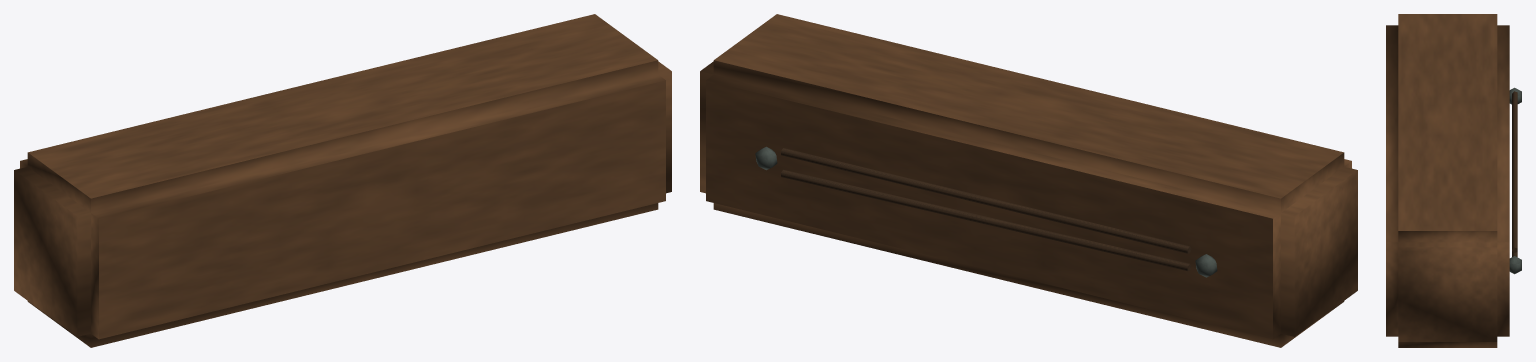
File: timber-beam-2.fbx
3 views of the same model, side by side, from view 1: azimuth 30°, elevation 25°; view 2: azimuth 150°, elevation 25°; view 3: azimuth 270°, elevation 25° (orthographic). The views are drawn at different scales.
Visible parts, largest first — view 1: timber-beam-2__Geometry; view 2: timber-beam-2__Geometry; view 3: timber-beam-2__Geometry.
Part boxes in pixels (<box>): timber-beam-2__Geometry: <box>14,14,671,347</box>; timber-beam-2__Geometry: <box>700,14,1357,347</box>; timber-beam-2__Geometry: <box>1386,14,1521,347</box>.
Bounding box in the file's own units: 1 × 0.24 × 0.2526.
Materials: 1 (1 with a texture image).
